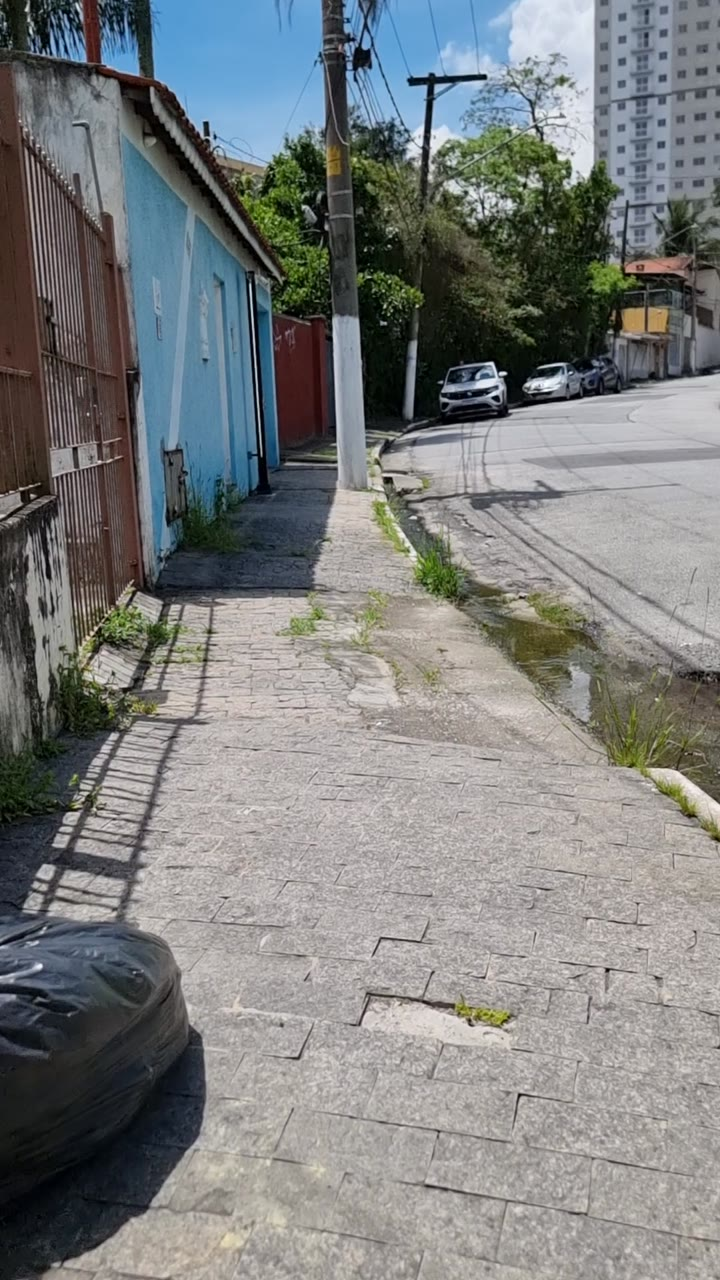obstaculo: (1, 910, 188, 1207), (324, 0, 374, 486)
